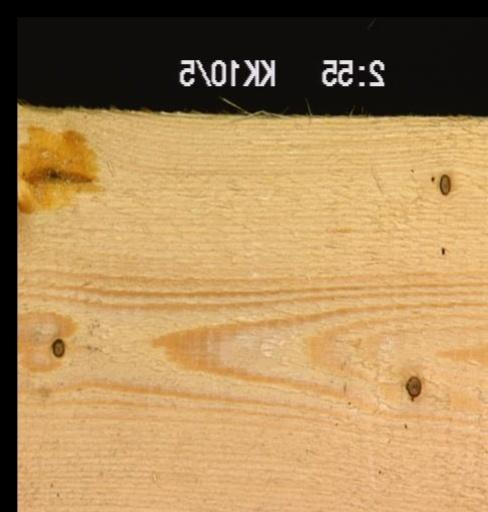dry_knot: (404, 373, 421, 401), (437, 172, 451, 196), (50, 337, 65, 357)
